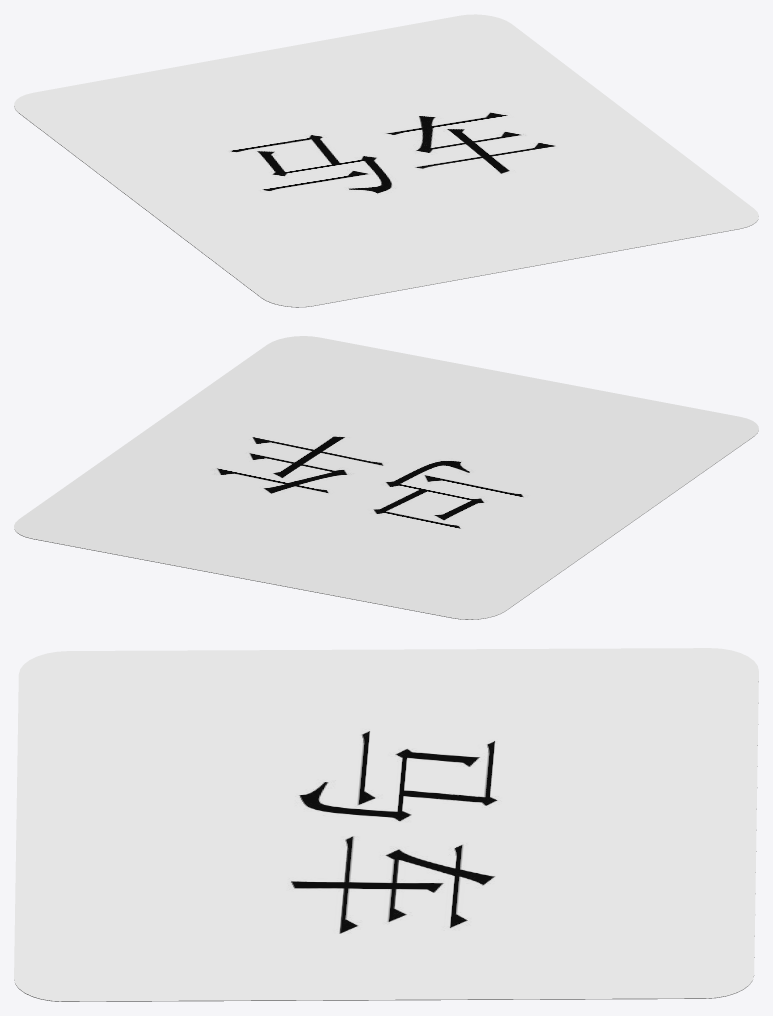
The model's file is MaChe.FBX.
The picture shows the model from 3 angles, top to bottom: view 1: azimuth 30°, elevation 25°; view 2: azimuth 150°, elevation 25°; view 3: azimuth 270°, elevation 25°; orthographic projection. The views are drawn at different scales.
Parts seen in each view (by area): view 1: Rectangle001; view 2: Rectangle001; view 3: Rectangle001.
Part boxes in pixels (box(x1,y1,x2,y2)): Rectangle001: box(14, 14, 758, 307); Rectangle001: box(14, 336, 758, 619); Rectangle001: box(14, 648, 758, 1001).
Bounding box in the file's own units: 60.32 × 3.91 × 60.38.
